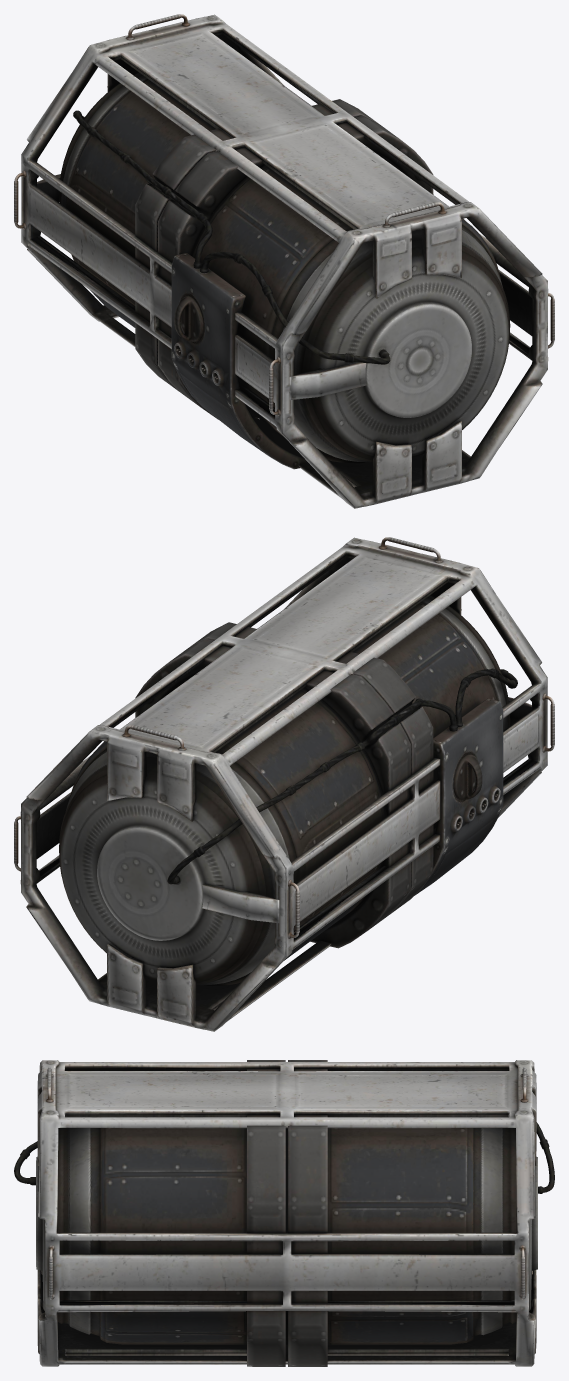
Rendered from Emergency_Backup_Generator-(COLLADA_3 (COLLAborative Design Activity)).dae.
The picture shows the model from 3 angles, top to bottom: view 1: azimuth 30°, elevation 25°; view 2: azimuth 150°, elevation 25°; view 3: azimuth 270°, elevation 25°; orthographic projection. The views are drawn at different scales.
Parts seen in each view (by area): view 1: Emergency_Backup_Generator; view 2: Emergency_Backup_Generator; view 3: Emergency_Backup_Generator.
Boxes of the visible parts, <box> form: Emergency_Backup_Generator: <box>14,14,554,508</box>; Emergency_Backup_Generator: <box>14,537,554,1031</box>; Emergency_Backup_Generator: <box>14,1060,554,1366</box>.
Bounding box in the file's own units: 4.16 × 7.15 × 3.83.
